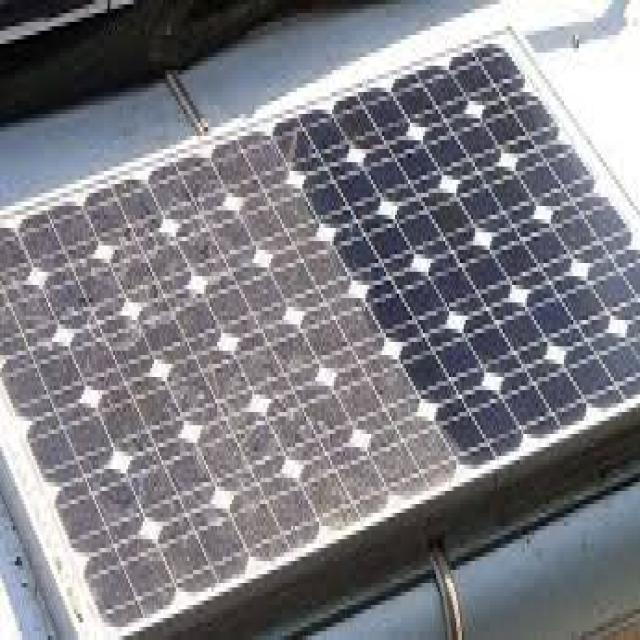faulty: (1, 44, 640, 632)
